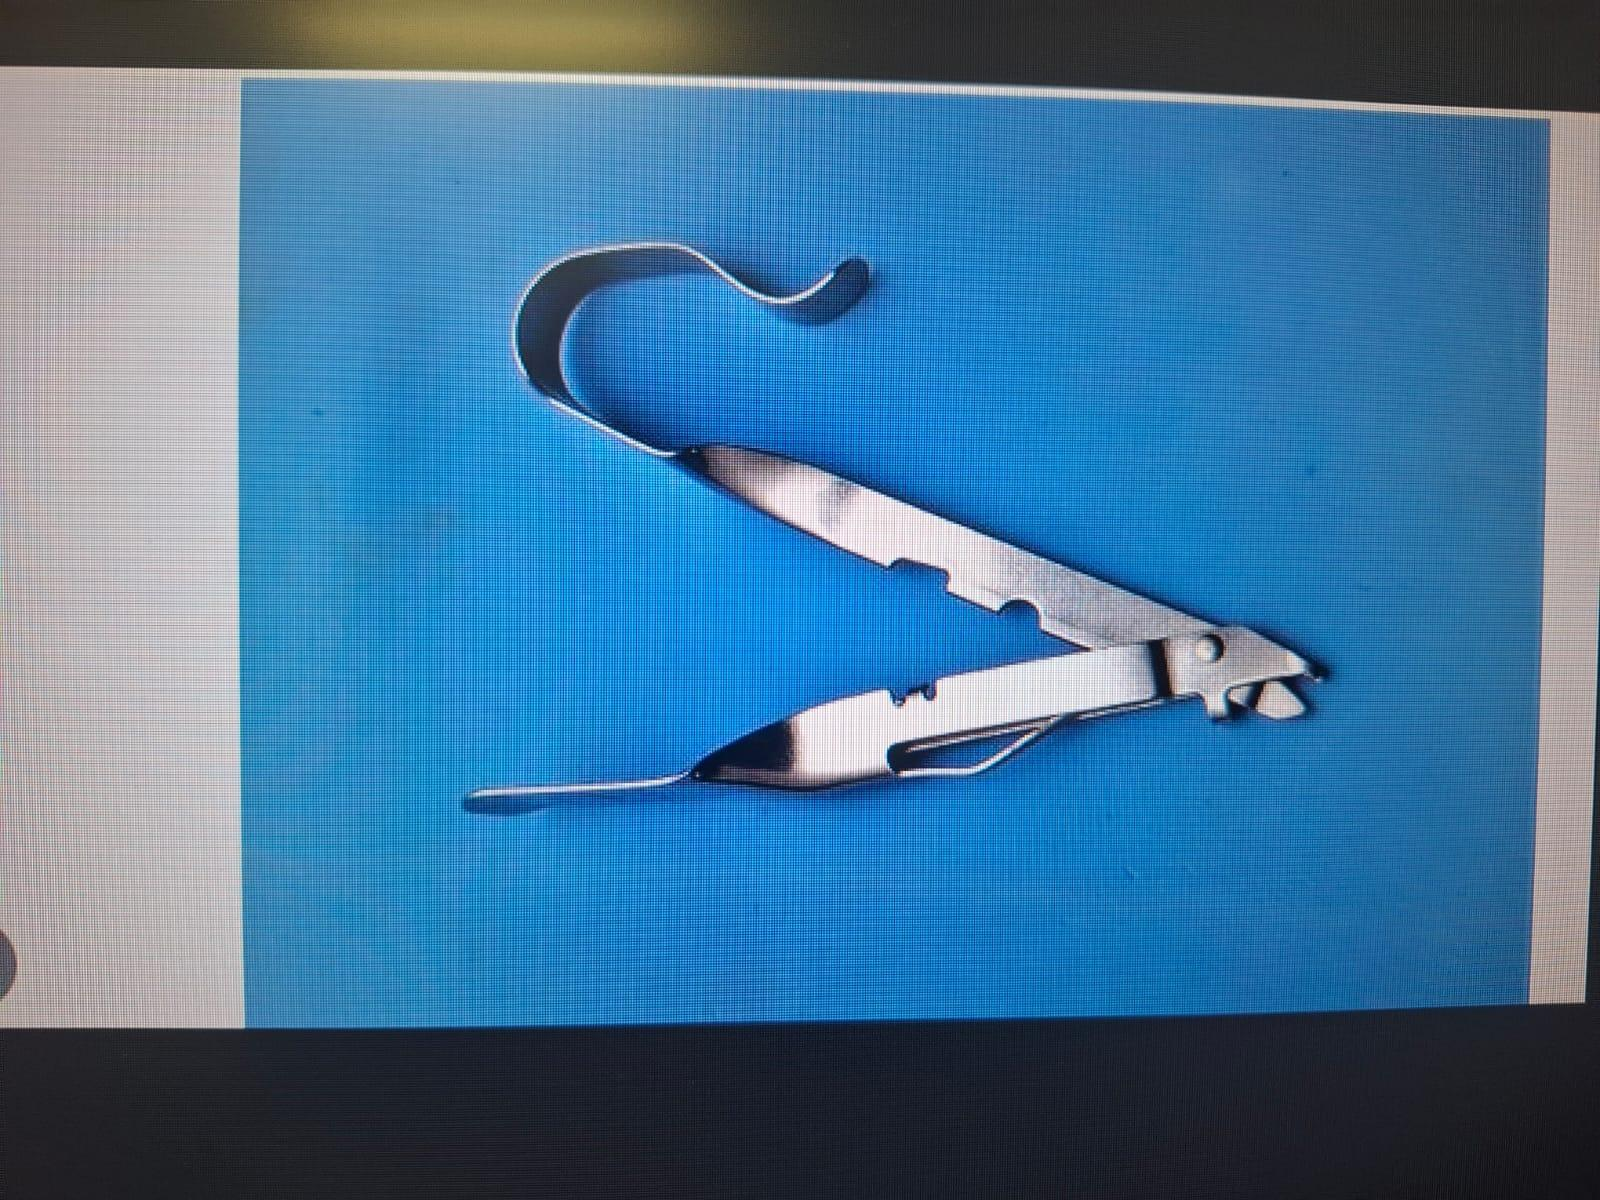Stapler Remover: (425, 216, 1344, 838)
